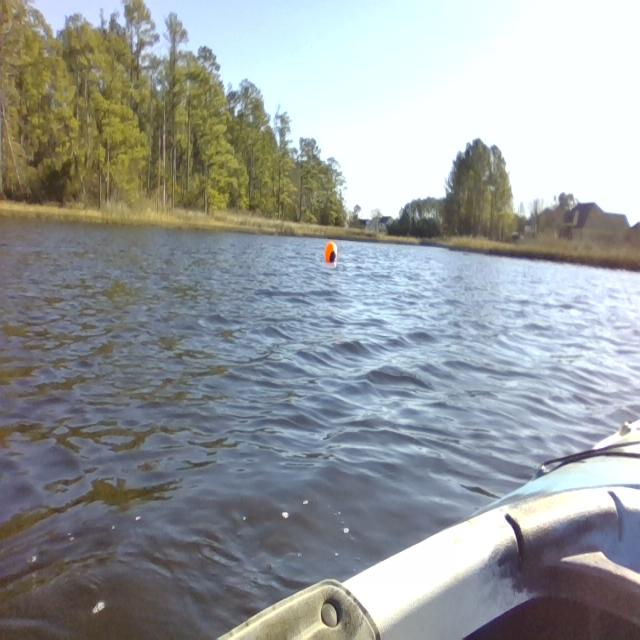Buoy: (322, 233, 344, 268)
